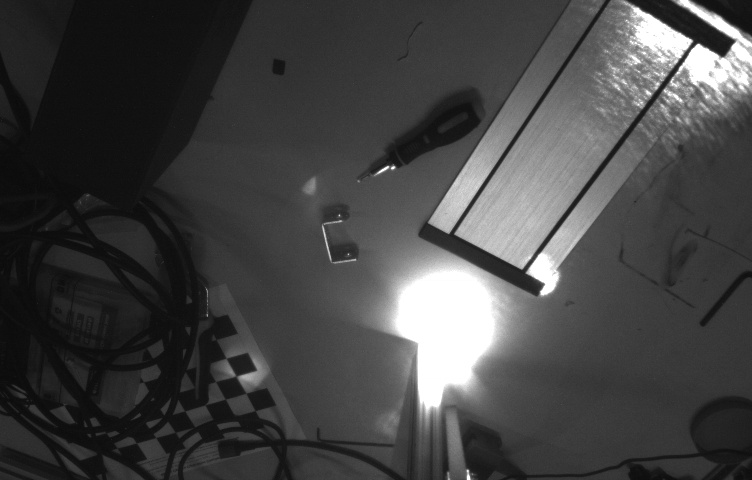Object - extruded aluminum profile - Material metal - Pdfname IJiB5jbMhrV7: (416, 329, 460, 410)
